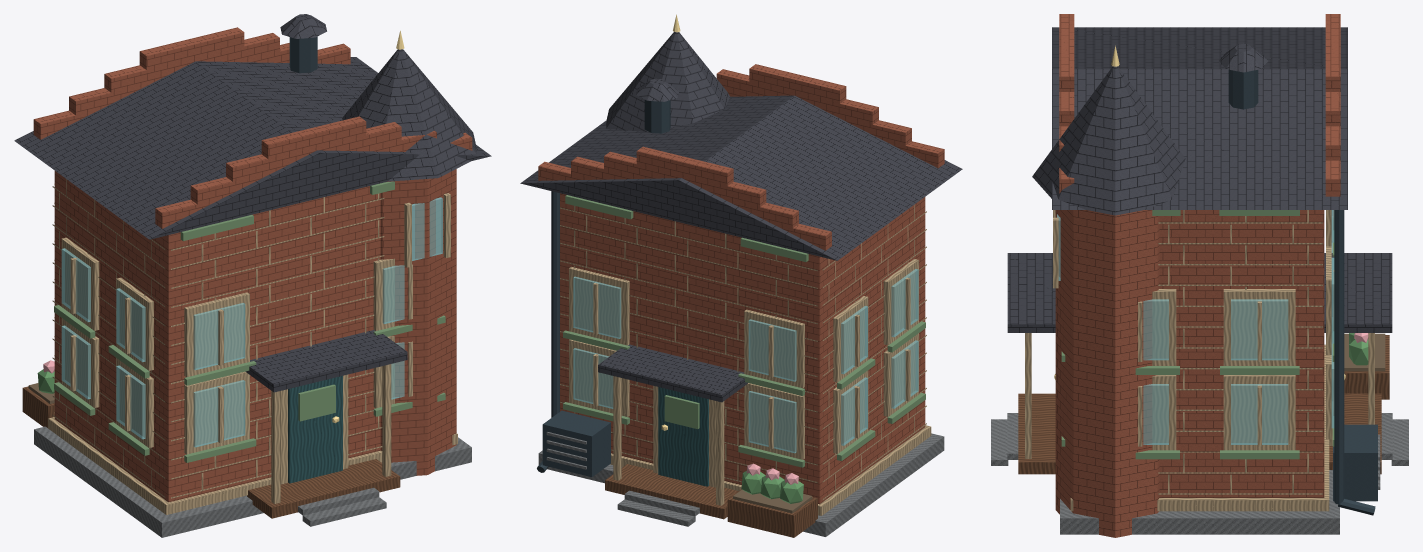
Rendered from house_townhouse_lv5_tower.glb.
3 renders of one model, left to right at view 1: azimuth 30°, elevation 25°; view 2: azimuth 150°, elevation 25°; view 3: azimuth 270°, elevation 25°, orthographic. The views are drawn at different scales.
Visible parts, largest first — view 1: walls, gable_roof, tower, tower_roof, foundation, front_porch_canopy, front_window_frame.002, front_door, front_window_frame, front_deck, floor_trim, front_window_glass (+33 smaller); view 2: walls, gable_roof, tower_roof, back_porch_canopy, back_window_frame.002, foundation, back_window_frame.003, back_door, back_window_frame, back_ac_unit, back_deck, back_window_frame.001 (+37 smaller); view 3: gable_roof, walls, tower, tower_roof, foundation, right_window_frame.003, right_window_frame.001, back_porch_canopy, front_porch_canopy, right_window_glass.003, right_window_glass.001, back_downspout (+28 smaller).
Boxes of the visible parts, x1,y1,x2,y2 form: walls: (54, 171, 380, 502); gable_roof: (14, 57, 491, 239); tower: (380, 169, 456, 475); tower_roof: (342, 49, 476, 181); foundation: (34, 426, 471, 537); front_porch_canopy: (245, 330, 407, 392); front_window_frame.002: (184, 292, 249, 377); front_door: (288, 376, 342, 483); front_window_frame: (184, 371, 249, 454); front_deck: (247, 459, 400, 518); floor_trim: (48, 417, 457, 514); front_window_glass: (193, 380, 245, 447); walls: (560, 193, 925, 504); gable_roof: (520, 95, 962, 260); tower_roof: (606, 32, 729, 131); back_porch_canopy: (598, 344, 747, 402); back_window_frame.002: (744, 309, 804, 388); foundation: (538, 433, 944, 536); back_window_frame.003: (569, 267, 629, 345); back_door: (658, 387, 708, 486); back_window_frame: (744, 383, 804, 459); back_ac_unit: (542, 410, 610, 476); back_deck: (605, 464, 738, 519); back_window_frame.001: (569, 339, 629, 416); gable_roof: (1052, 27, 1347, 209); walls: (1159, 210, 1324, 497); tower: (1055, 210, 1159, 537); tower_roof: (1032, 66, 1185, 215); foundation: (1060, 470, 1339, 534); right_window_frame.003: (1223, 289, 1295, 365); right_window_frame.001: (1223, 375, 1295, 450); back_porch_canopy: (1324, 253, 1392, 332); front_porch_canopy: (1007, 253, 1055, 332); right_window_glass.003: (1231, 299, 1288, 360); right_window_glass.001: (1231, 384, 1288, 444); back_downspout: (1334, 210, 1344, 504).
Bounding box in the file's own units: 6.6 × 7.6 × 6.19.
Materials: 13 (7 with a texture image).
